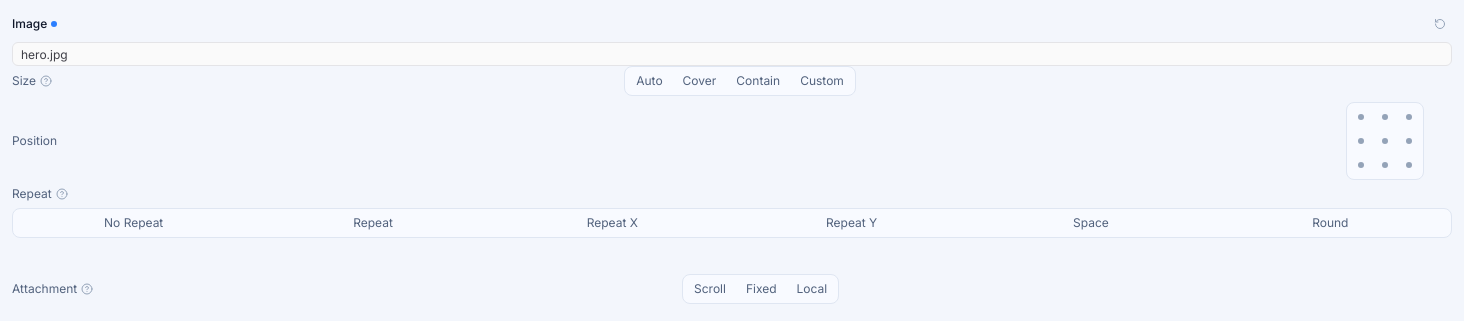
Test: InspectorBackgroundImageControls › history bug fix (Checkpoint 1.15.1) › Escape reverts the draft and pushes no history entry
Replace the text in the field named "Background image URL" with "https://example.com/discard.jpg" at (732,54), box [12,42,1452,66]
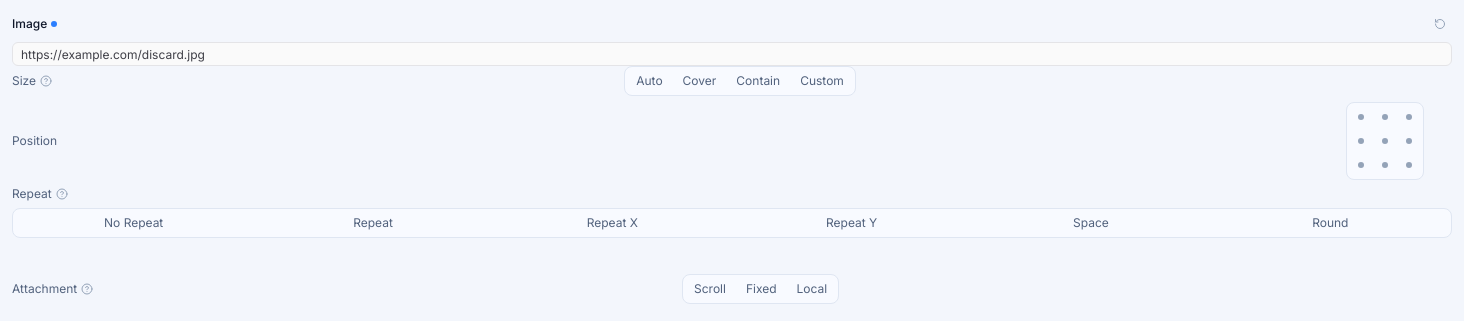
Press Escape in the field named "Background image URL", box [12,42,1452,66]
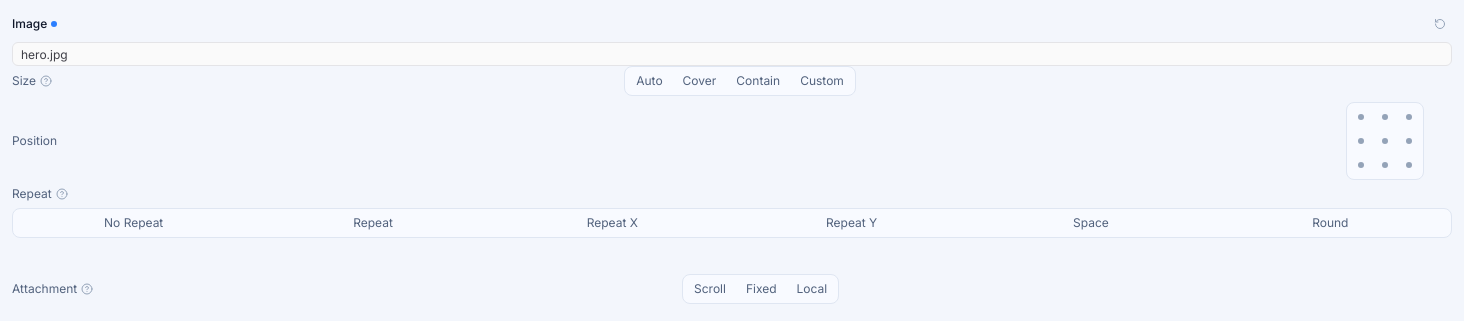
Result: the field named "Background image URL" holds "hero.jpg" at [12,42,1452,66]
